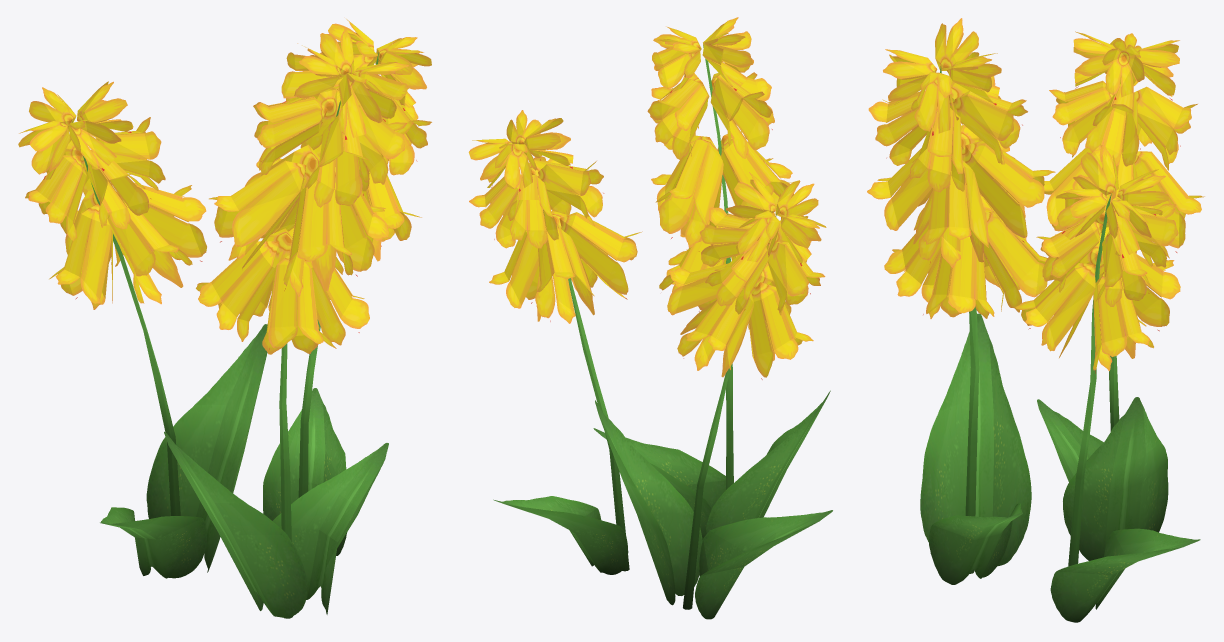
Rendered from Flower_4_Group.glb.
3 views of the same model, side by side, from view 1: azimuth 30°, elevation 25°; view 2: azimuth 150°, elevation 25°; view 3: azimuth 270°, elevation 25° (orthographic). The views are drawn at different scales.
Bounding box in the file's own units: 1.78 × 2.49 × 1.37.
2 materials, 2 textured.
